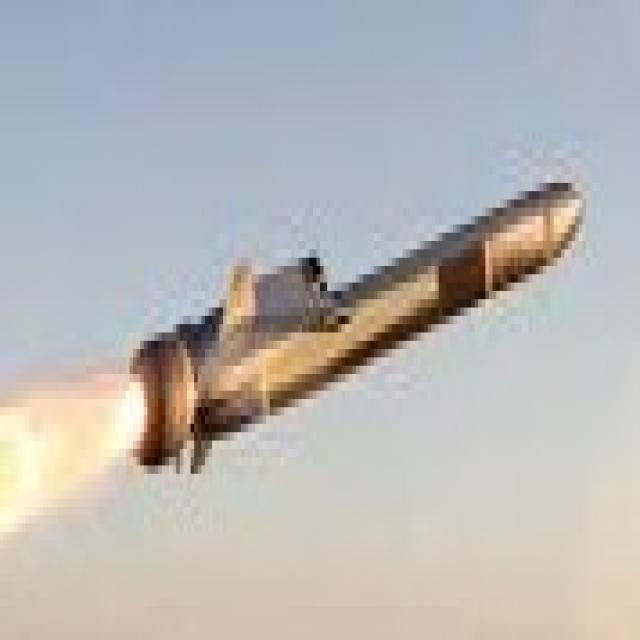missile: (138, 166, 602, 484)
